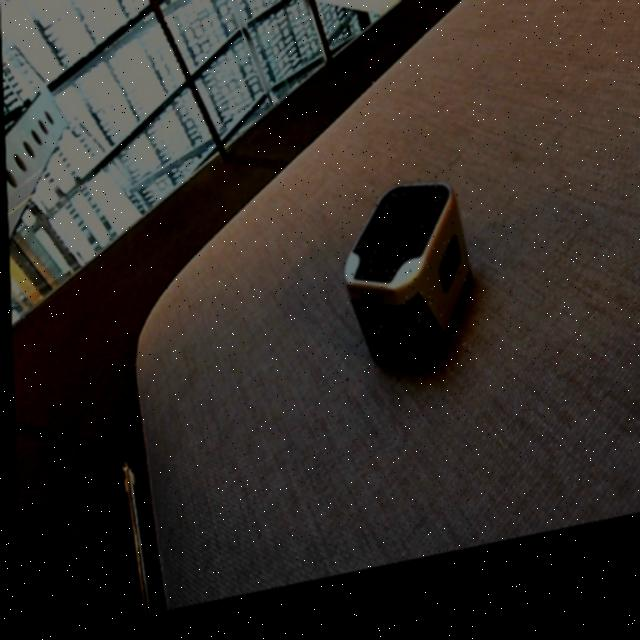adapter: (338, 187, 471, 401)
